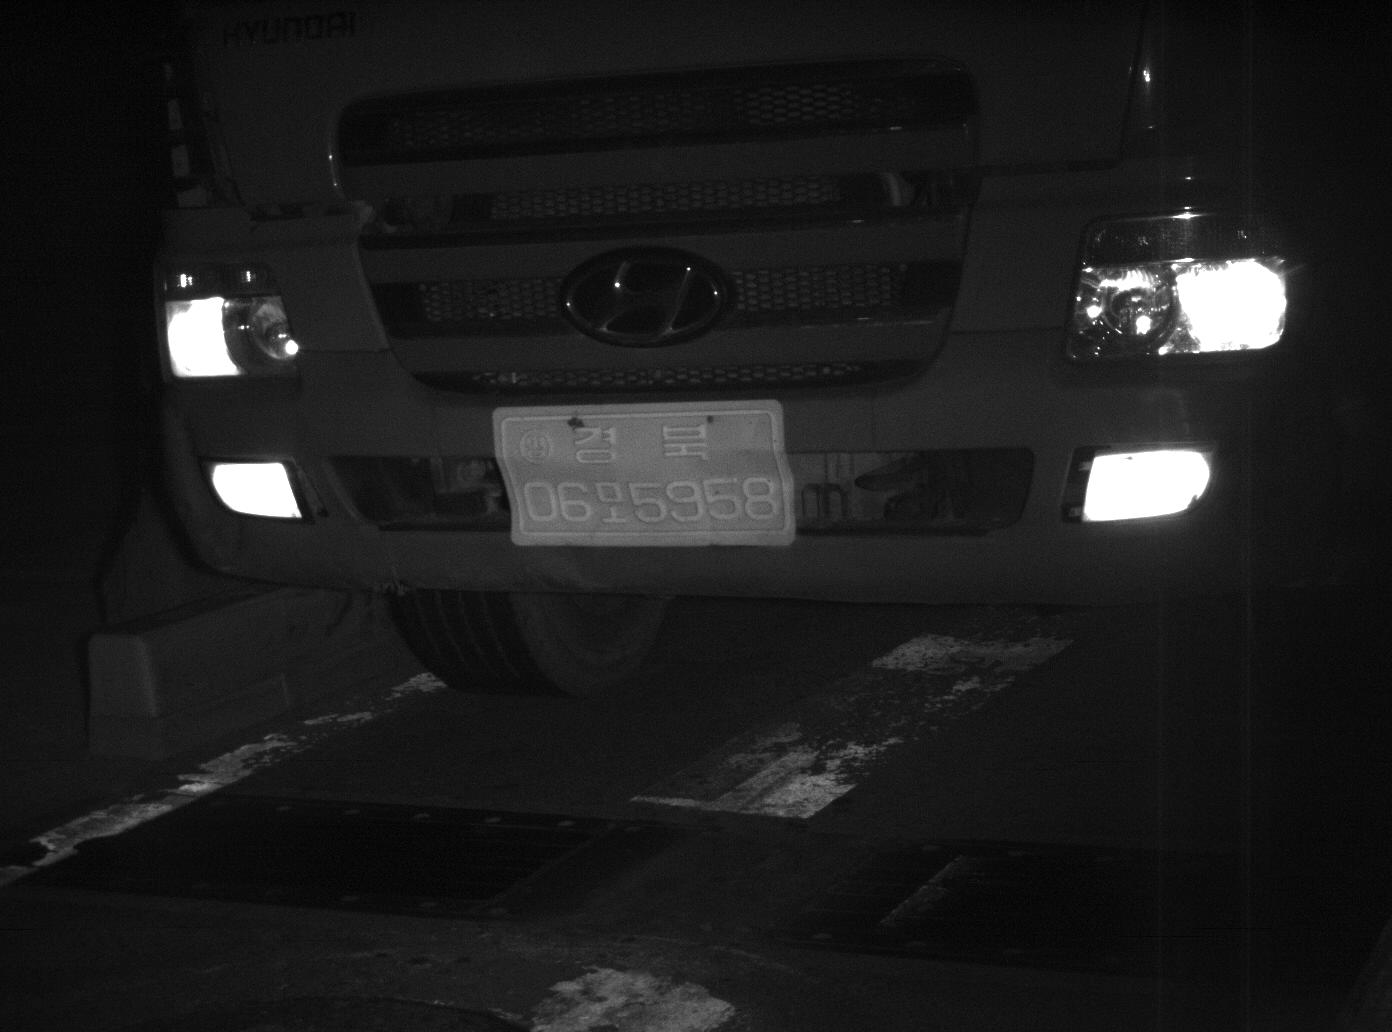car: (116, 1, 1389, 700)
plate: (493, 397, 790, 546)
